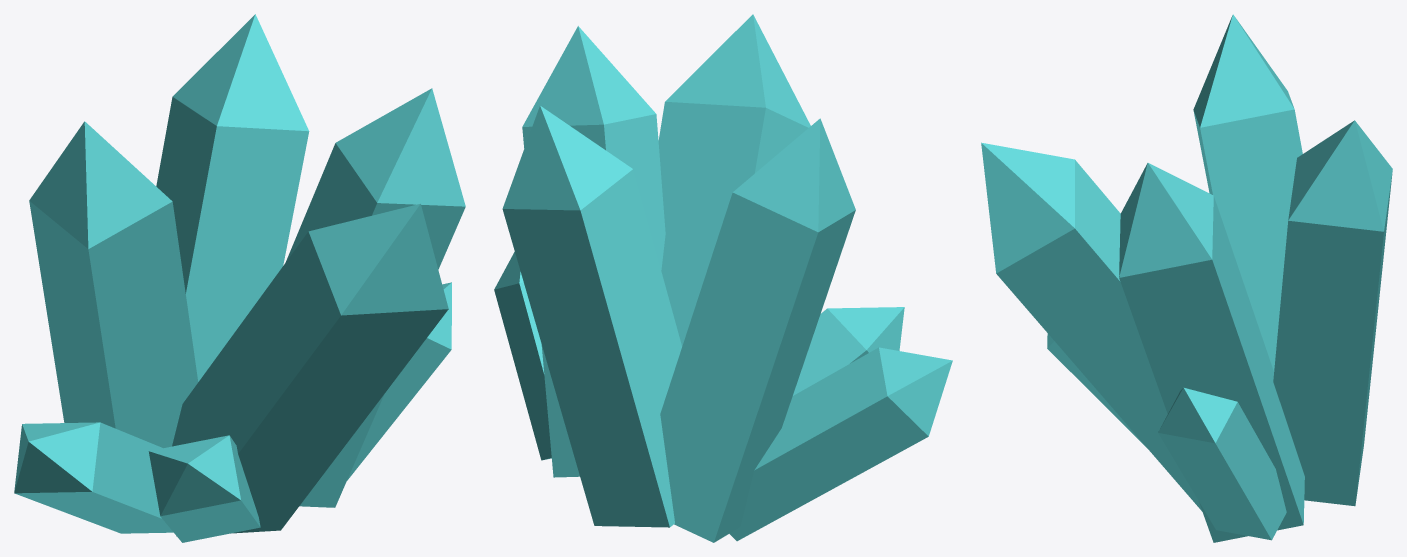
The model's file is Cristaux_Asset_4.FBX.
The picture shows the model from 3 angles, left to right: view 1: azimuth 30°, elevation 25°; view 2: azimuth 150°, elevation 25°; view 3: azimuth 270°, elevation 25°; orthographic projection. The views are drawn at different scales.
Parts seen in each view (by area): view 1: Box334; view 2: Box334; view 3: Box334.
Part boxes in pixels (left/top/right/bottom): Box334: left=14, top=14, right=465, bottom=542; Box334: left=494, top=14, right=952, bottom=542; Box334: left=981, top=14, right=1392, bottom=542.
Bounding box in the file's own units: 1.04 × 0.9894 × 0.8558.
